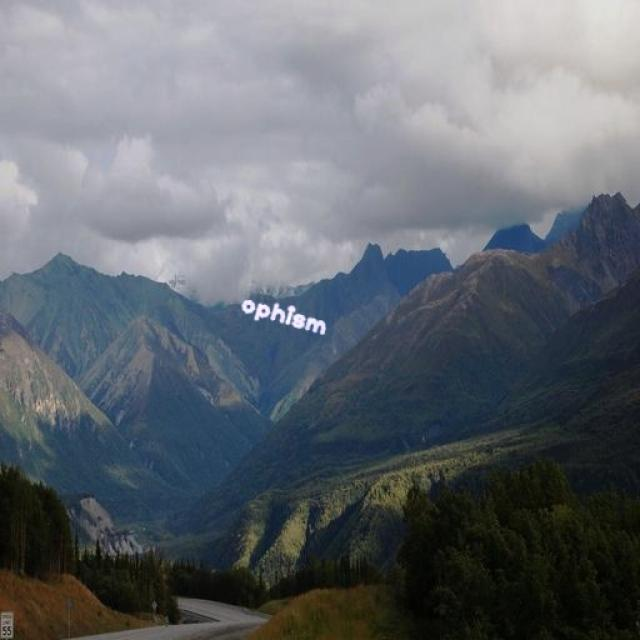watermark: (233, 294, 340, 338)
